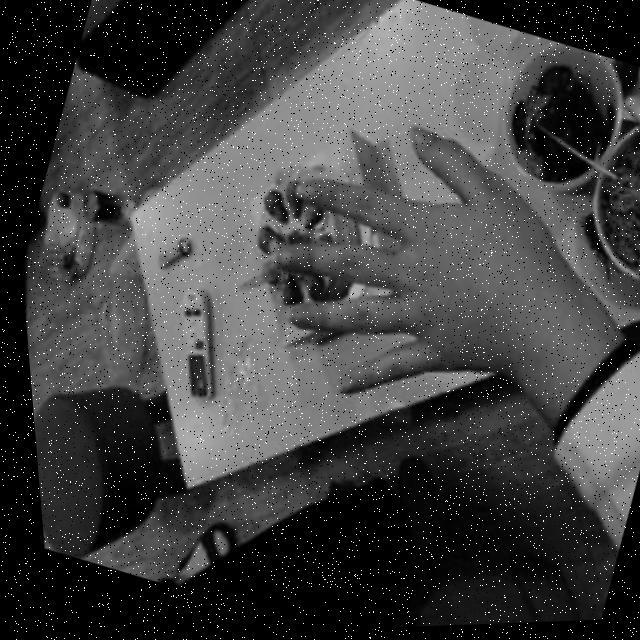no-gloves: (219, 89, 571, 449)
